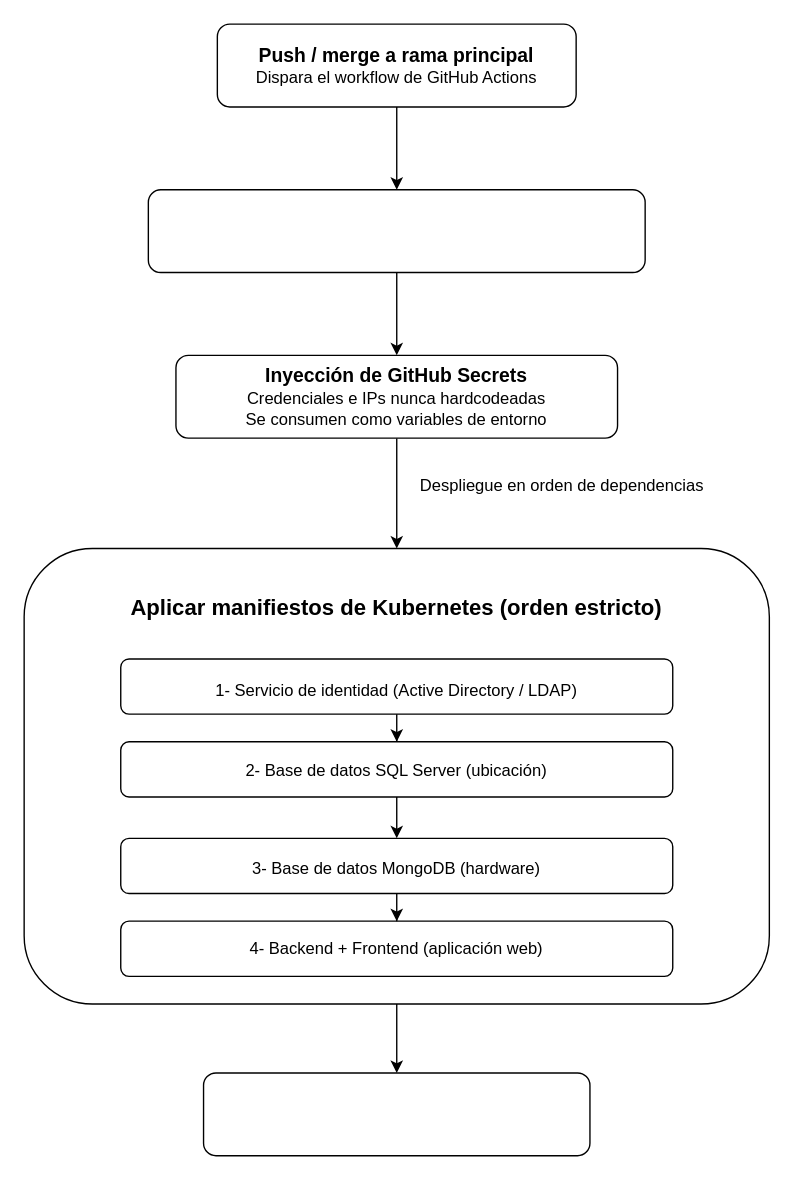
The diagram is 794 pixels wide and 1180 high, and some of its shapes have lost their labels. The shapes that lost their labels are listed below. From the top down, each one's centre as x and y in pixels, then its label:
(396,230): Build & test Compila el backend y construye imágenes de contenedor
(396,1114): Ecosistema desplegado
